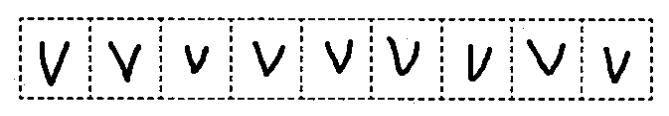V: (31, 36, 78, 90), (379, 32, 426, 84), (520, 34, 572, 79), (102, 39, 151, 84), (248, 36, 292, 80), (319, 34, 360, 79), (457, 40, 497, 85), (595, 43, 635, 88), (172, 40, 216, 79)
